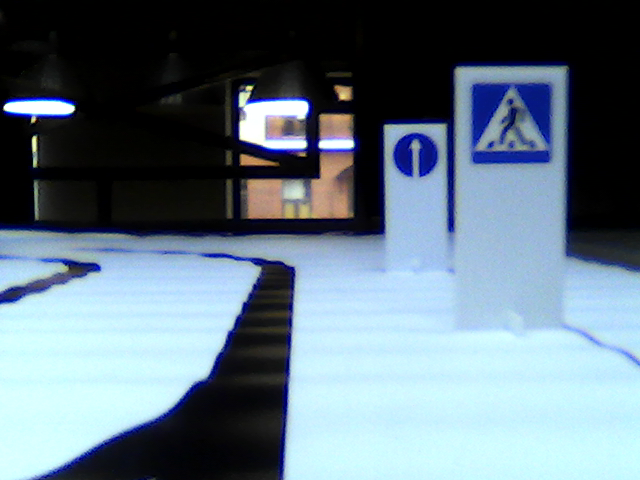forw: (391, 132, 439, 180)
pesh: (470, 82, 551, 165)
